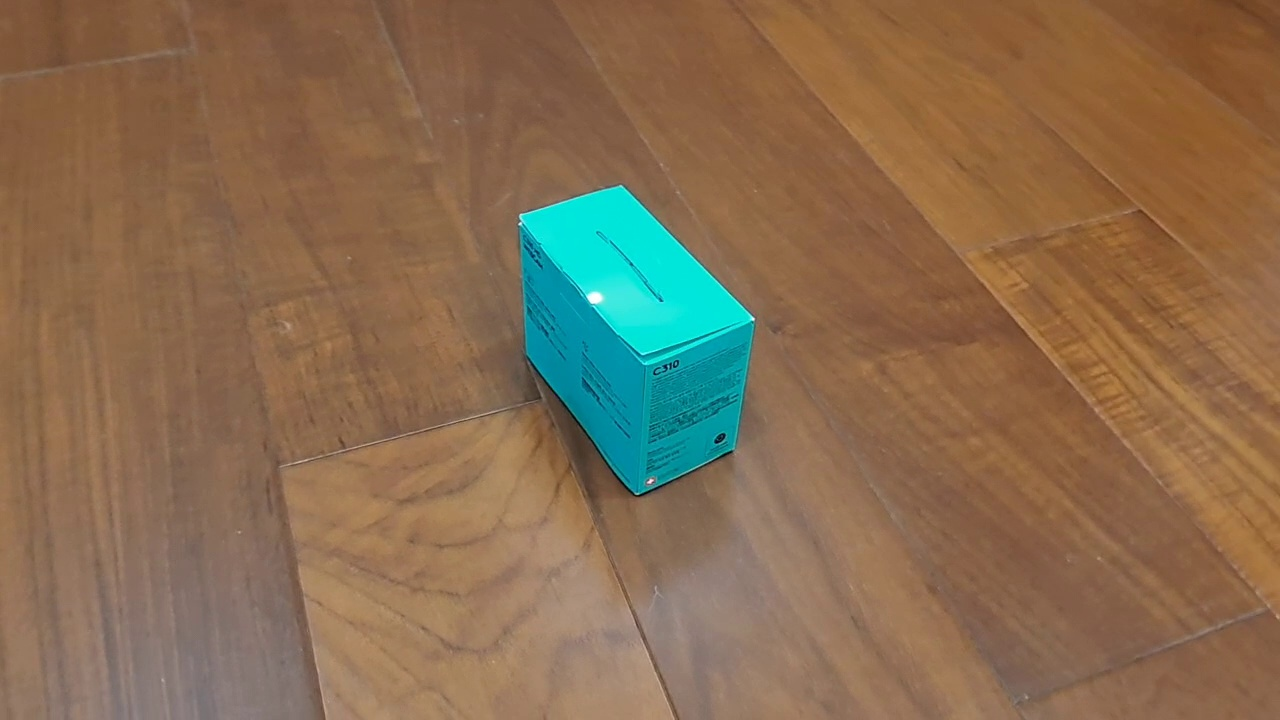webcam: (517, 182, 758, 499)
